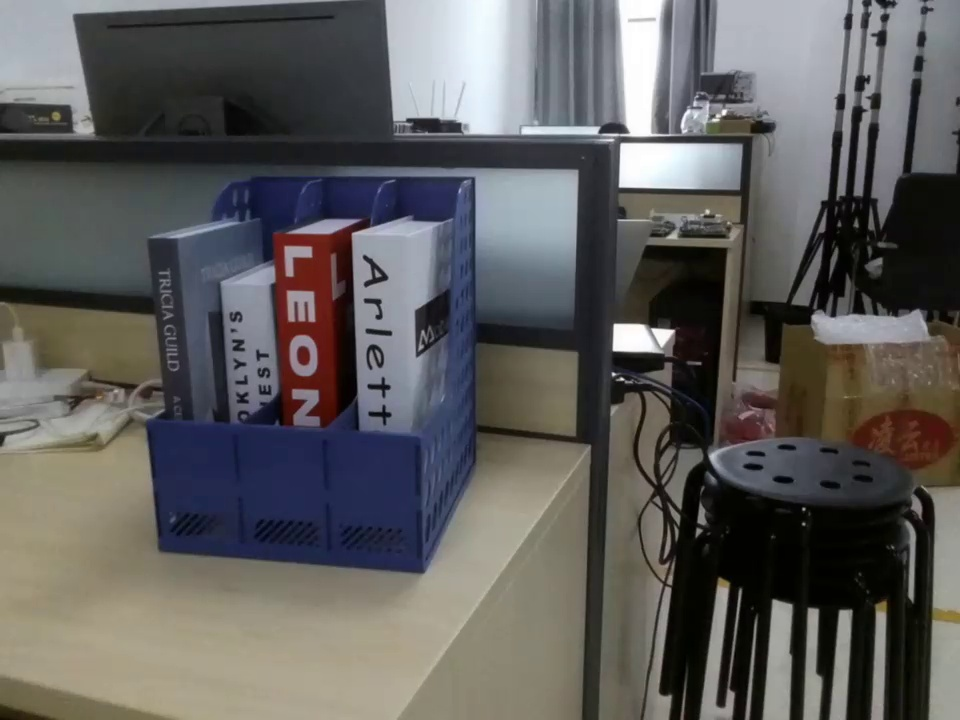files: (144, 171, 477, 574)
